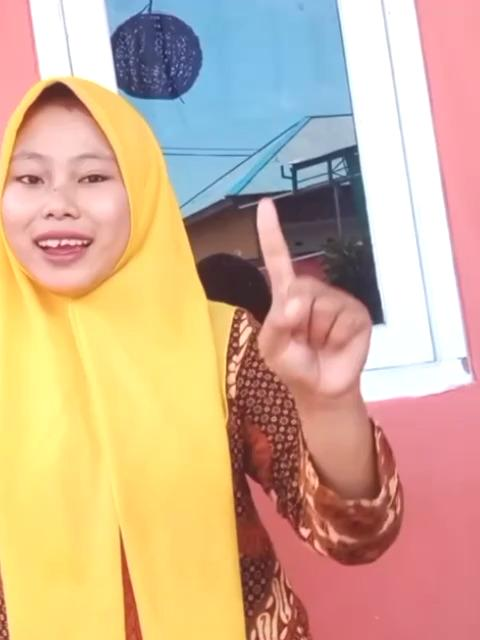Z: (250, 192, 380, 400)
